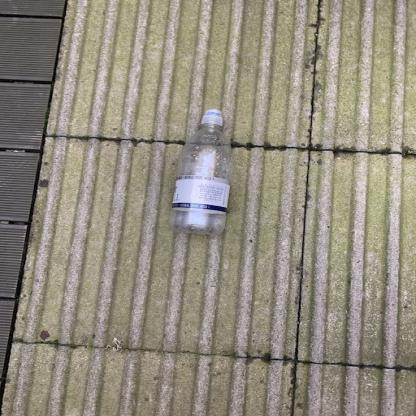trash: (170, 104, 233, 237)
